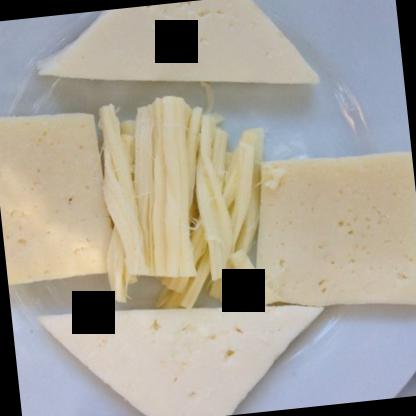mozarella cheese: (82, 84, 281, 312), (27, 297, 330, 415), (32, 0, 324, 116), (240, 143, 415, 314), (0, 104, 116, 282)
